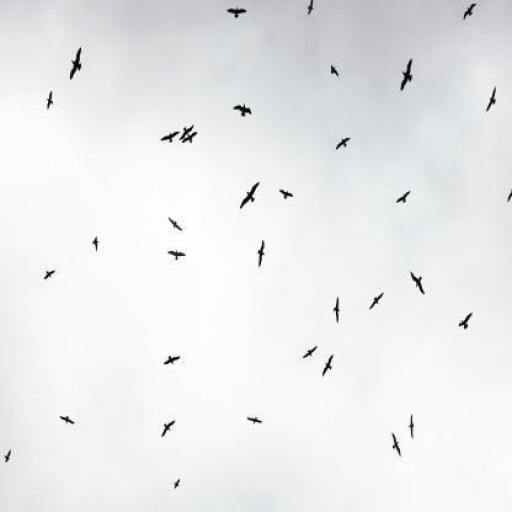bird: (241, 182, 260, 209), (70, 47, 81, 81), (401, 59, 413, 90), (410, 272, 426, 295), (485, 86, 496, 113), (322, 354, 334, 376), (369, 293, 384, 310), (391, 433, 402, 456), (161, 419, 175, 437), (233, 104, 252, 117), (160, 131, 180, 143), (463, 3, 477, 20), (257, 239, 265, 268), (226, 7, 247, 18), (459, 312, 473, 328), (168, 217, 183, 231), (179, 125, 193, 140), (395, 190, 411, 203), (162, 355, 180, 366), (333, 296, 340, 324), (182, 131, 197, 144), (167, 250, 186, 260), (407, 413, 414, 439), (303, 346, 317, 359), (336, 138, 351, 150), (279, 189, 294, 200), (46, 90, 54, 109), (60, 415, 76, 424), (91, 236, 99, 251), (3, 449, 12, 462), (307, 0, 315, 14), (44, 270, 55, 280), (247, 417, 262, 424), (331, 64, 339, 77), (174, 478, 180, 489), (508, 189, 512, 201)
